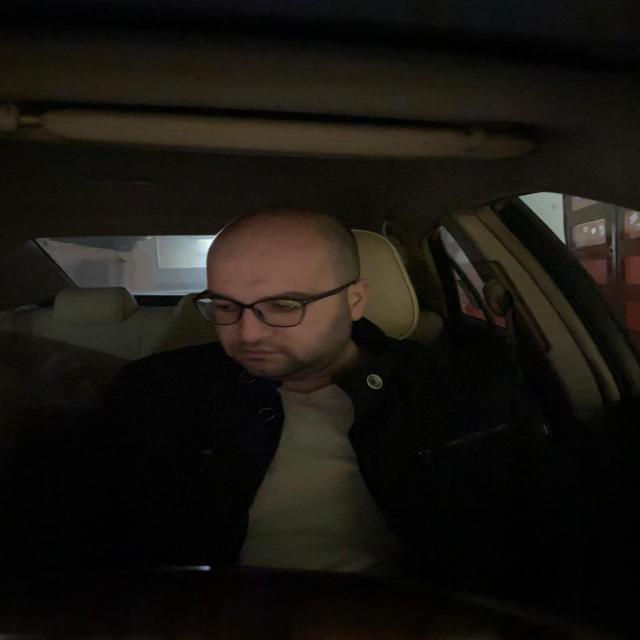person: (191, 227, 383, 371)
